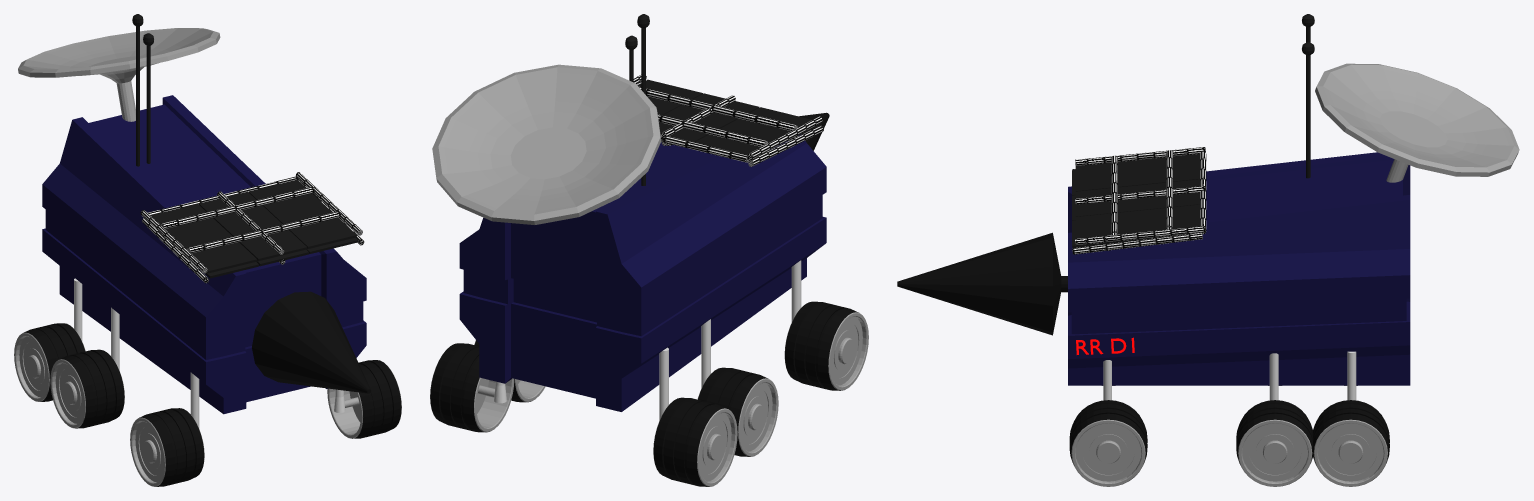
File: rover_research_d1.glb
The picture shows the model from 3 angles, left to right: view 1: azimuth 30°, elevation 25°; view 2: azimuth 150°, elevation 25°; view 3: azimuth 270°, elevation 25°; orthographic projection. The views are drawn at different scales.
Parts seen in each view (by area): view 1: Rover_Research_D1, Cylinder.273, Cylinder.329, Cube.102, Cylinder.283, Cylinder.287, Cube.100, Cube.101, Cylinder.275, Cylinder.320, Cylinder.337, Cylinder.336 (+17 smaller); view 2: Rover_Research_D1, Cylinder.329, Cylinder.320, Cylinder.283, Cylinder.316, Cube.100, Cylinder.287, Cube.101, Cylinder.284, Cylinder.321, Cylinder.294, Cylinder.315 (+15 smaller); view 3: Rover_Research_D1, Cylinder.329, Cylinder.273, Cube.100, Cylinder.280, Cylinder.317, Cylinder.276, Cube.102, Cube.101, Cylinder.275, Cylinder.316, Cylinder.279 (+8 smaller).
Boxes of the visible parts, x1=… form: Rover_Research_D1: x1=42, y1=95, x2=366, y2=414; Cylinder.273: x1=252, y1=291, x2=370, y2=393; Cylinder.329: x1=18, y1=28, x2=220, y2=121; Cube.102: x1=248, y1=179, x2=356, y2=248; Cylinder.283: x1=139, y1=408, x2=204, y2=486; Cylinder.287: x1=59, y1=349, x2=124, y2=428; Cube.100: x1=150, y1=204, x2=257, y2=273; Cube.101: x1=199, y1=191, x2=307, y2=261; Cylinder.275: x1=352, y1=360, x2=401, y2=438; Cylinder.320: x1=23, y1=323, x2=85, y2=401; Cylinder.337: x1=161, y1=186, x2=314, y2=228; Cylinder.336: x1=187, y1=211, x2=340, y2=253; Rover_Research_D1: x1=459, y1=134, x2=826, y2=411; Cylinder.329: x1=432, y1=64, x2=661, y2=224; Cylinder.320: x1=653, y1=397, x2=727, y2=486; Cylinder.283: x1=785, y1=301, x2=858, y2=390; Cylinder.316: x1=430, y1=343, x2=484, y2=432; Cube.100: x1=690, y1=107, x2=812, y2=157; Cylinder.287: x1=698, y1=367, x2=768, y2=456; Cube.101: x1=659, y1=93, x2=759, y2=144; Cylinder.284: x1=831, y1=316, x2=862, y2=385; Cylinder.321: x1=699, y1=413, x2=731, y2=481; Cylinder.294: x1=740, y1=382, x2=772, y2=451; Cylinder.315: x1=430, y1=350, x2=514, y2=432; Rover_Research_D1: x1=1068, y1=152, x2=1410, y2=385; Cylinder.329: x1=1315, y1=63, x2=1519, y2=182; Cylinder.273: x1=897, y1=232, x2=1067, y2=335; Cube.100: x1=1075, y1=154, x2=1199, y2=191; Cylinder.280: x1=1242, y1=423, x2=1307, y2=481; Cylinder.317: x1=1318, y1=423, x2=1383, y2=481; Cylinder.276: x1=1075, y1=423, x2=1141, y2=481; Cube.102: x1=1075, y1=204, x2=1199, y2=238; Cube.101: x1=1075, y1=179, x2=1199, y2=216; Cylinder.275: x1=1069, y1=400, x2=1147, y2=464; Cylinder.316: x1=1313, y1=400, x2=1389, y2=464; Cylinder.279: x1=1236, y1=400, x2=1312, y2=464.
Size of the model in its own units: 2.27 by 3.48 by 4.95.
6 materials, 1 textured.
